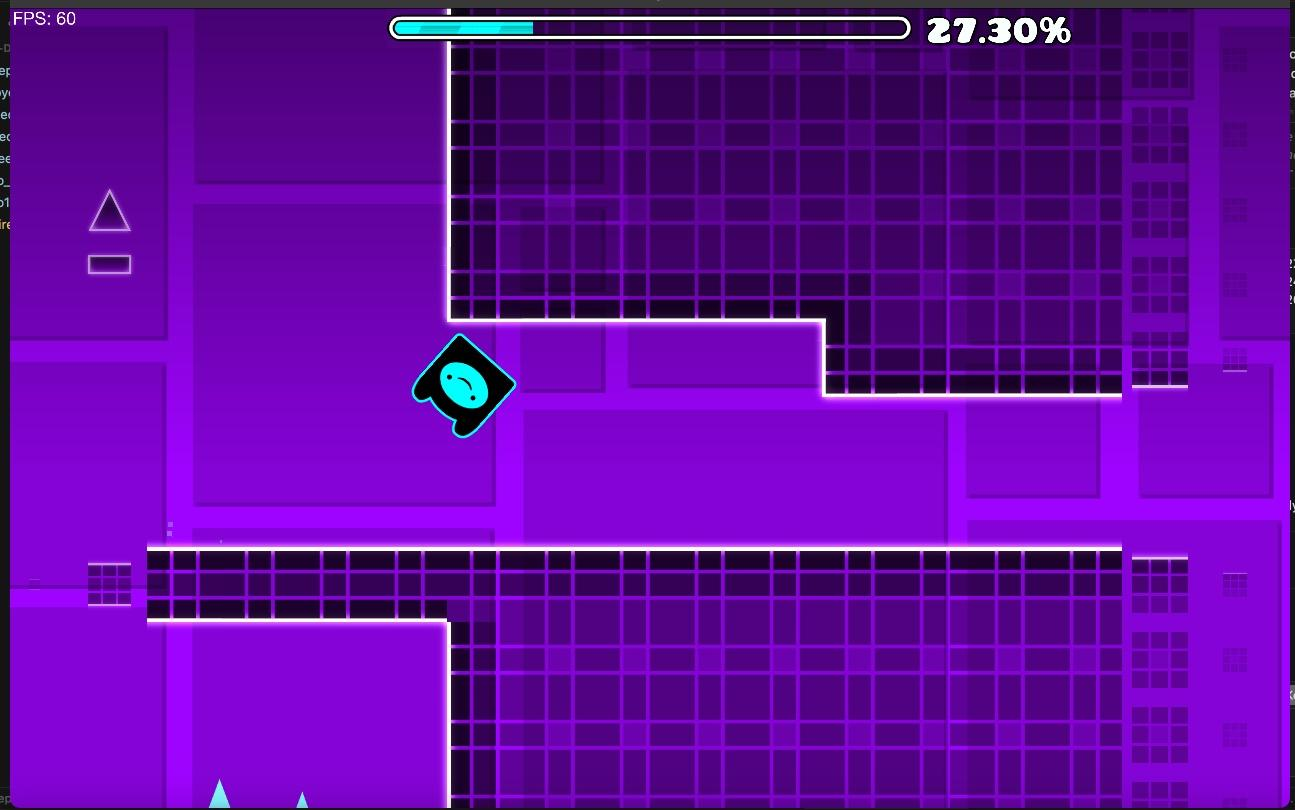block: (450, 620, 1121, 810), (146, 550, 1123, 618)
player: (412, 334, 515, 437)
spike: (210, 780, 231, 807), (295, 792, 307, 807)
